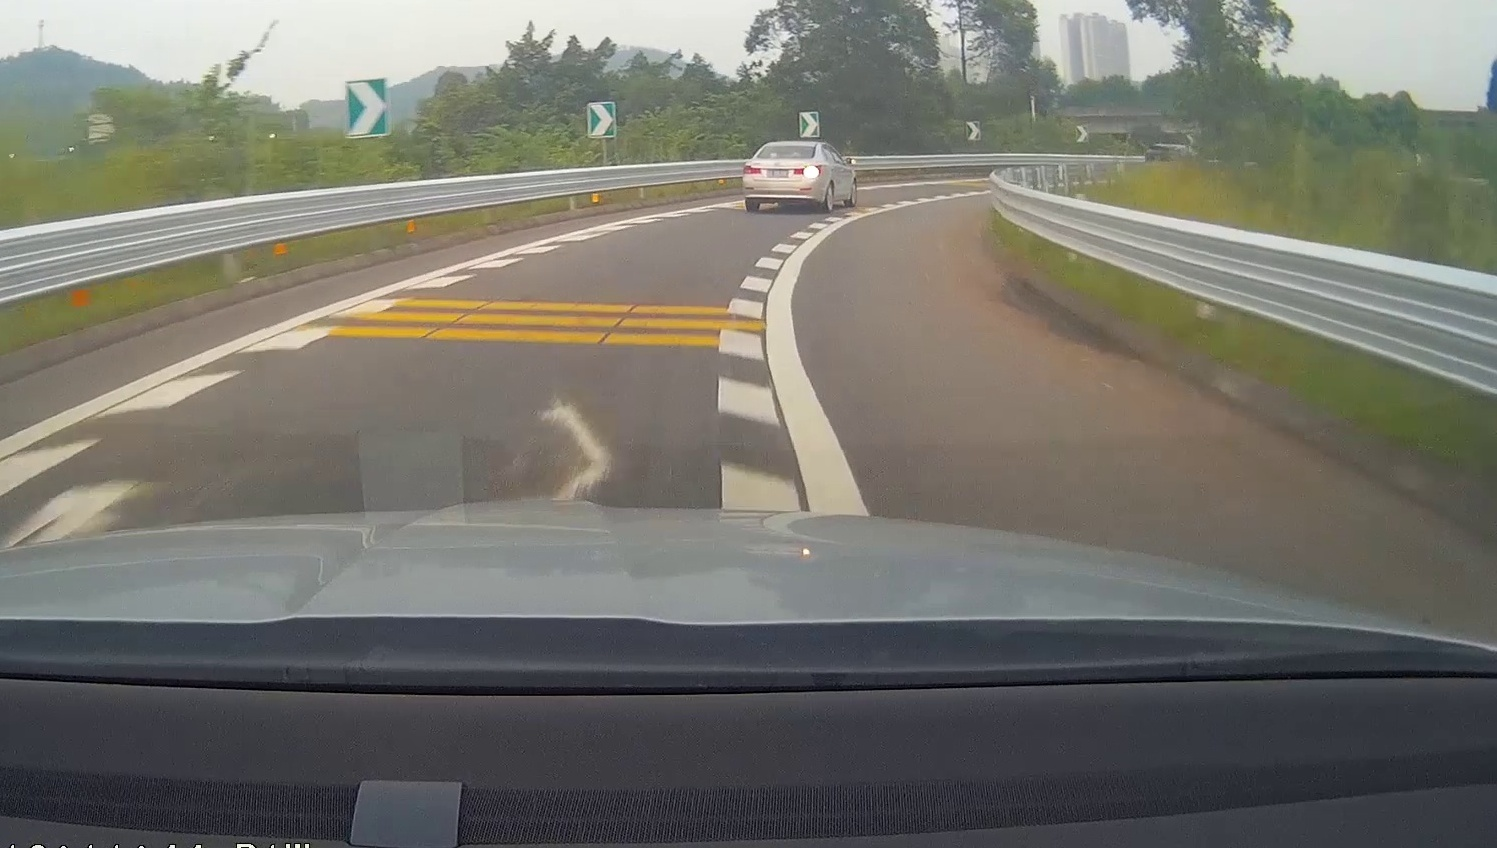L_light: (743, 165, 762, 175)
R_light: (793, 165, 821, 175)
T_light: (783, 145, 795, 148)
day-right: (742, 140, 825, 212)
